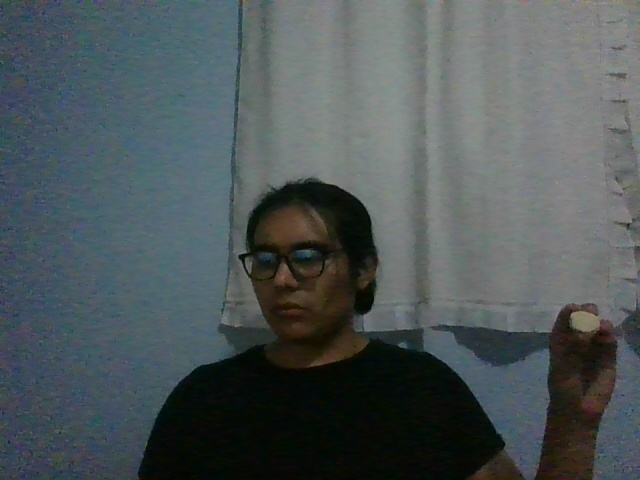goma: (569, 311, 600, 334)
